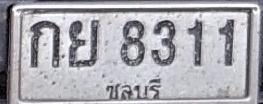1: (218, 18, 234, 66), (187, 19, 203, 66)
3: (151, 19, 176, 66)
8: (120, 19, 145, 66)
A01: (30, 20, 62, 68)
A34: (68, 19, 100, 67)
CBI: (103, 76, 162, 101)
